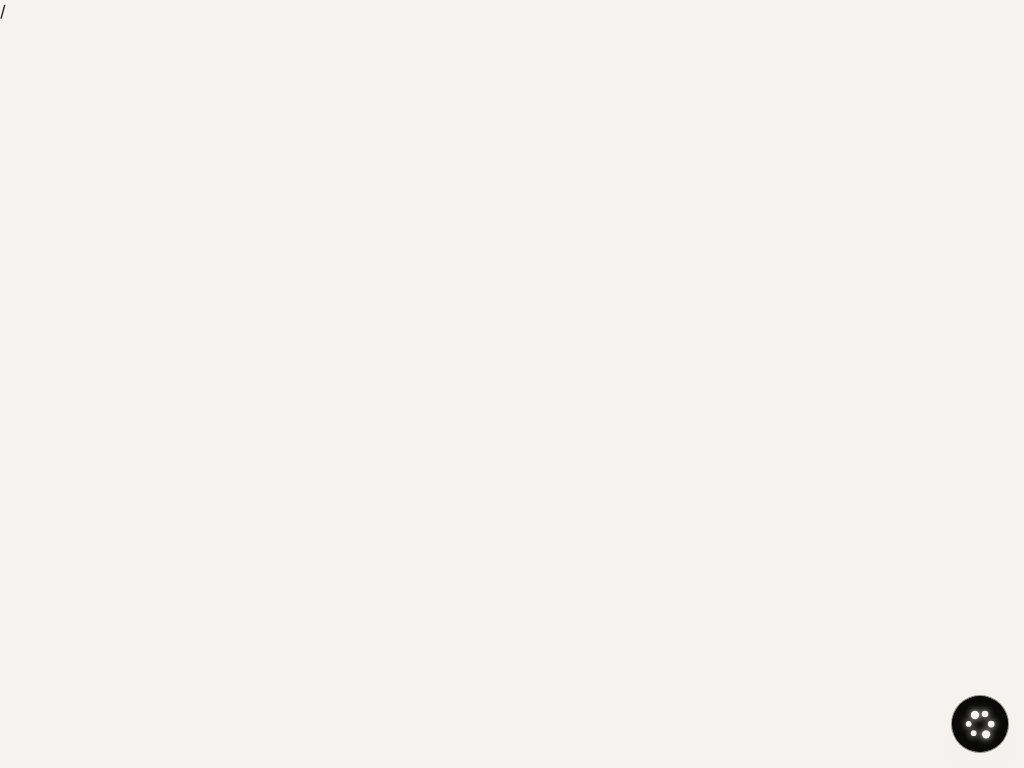
Test: Asistente › reenvía el id de la conversación que devolvió el servidor, y lo suelta al empezar una nueva
The width and height of the screenshot is (1024, 768).
Later steps or results of the test are not shown.
Step 1. Click the button named "Abrir el asistente" → (980, 724), box x1=952 y1=696 x2=1008 y2=752
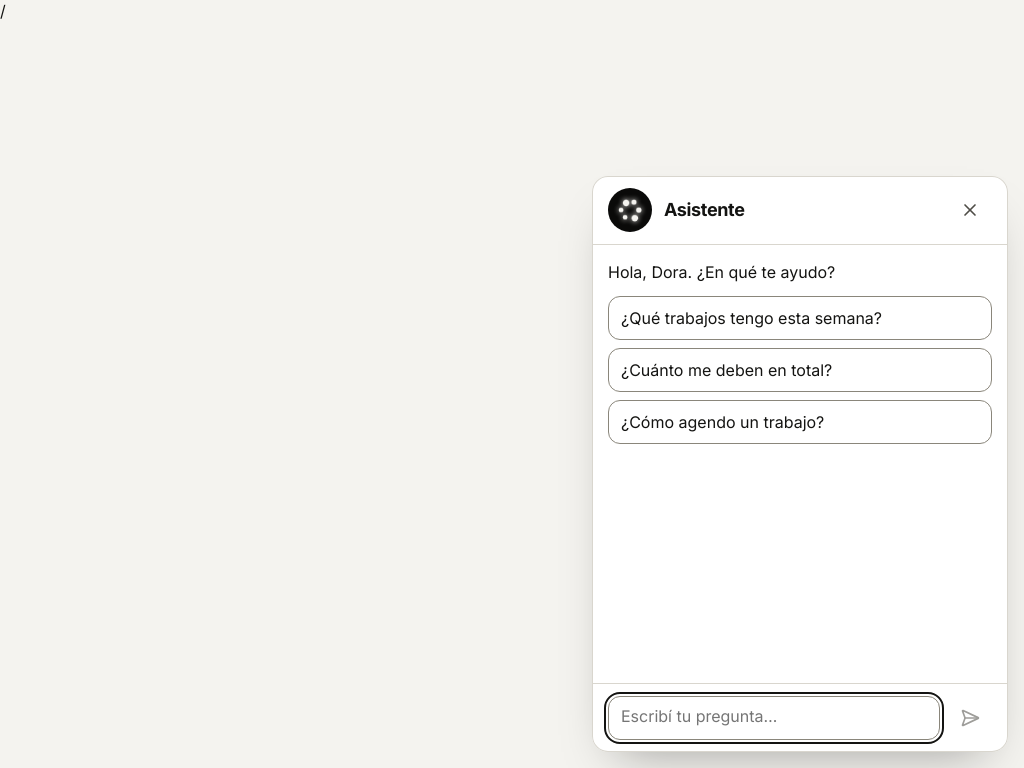
Step 2. Type "uno" into the text box named "Escribile al asistente" → (774, 718), box x1=608 y1=696 x2=940 y2=740
Then press Enter
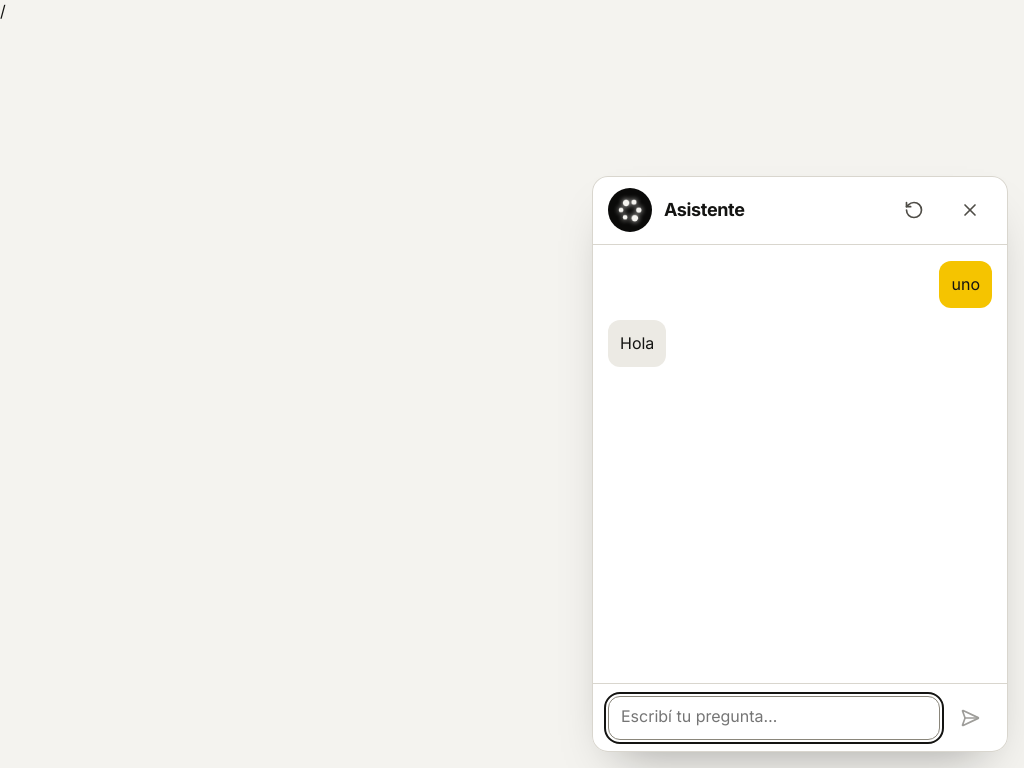
Expected: the text "Hola" is shown, x1=620 y1=332 x2=654 y2=355
